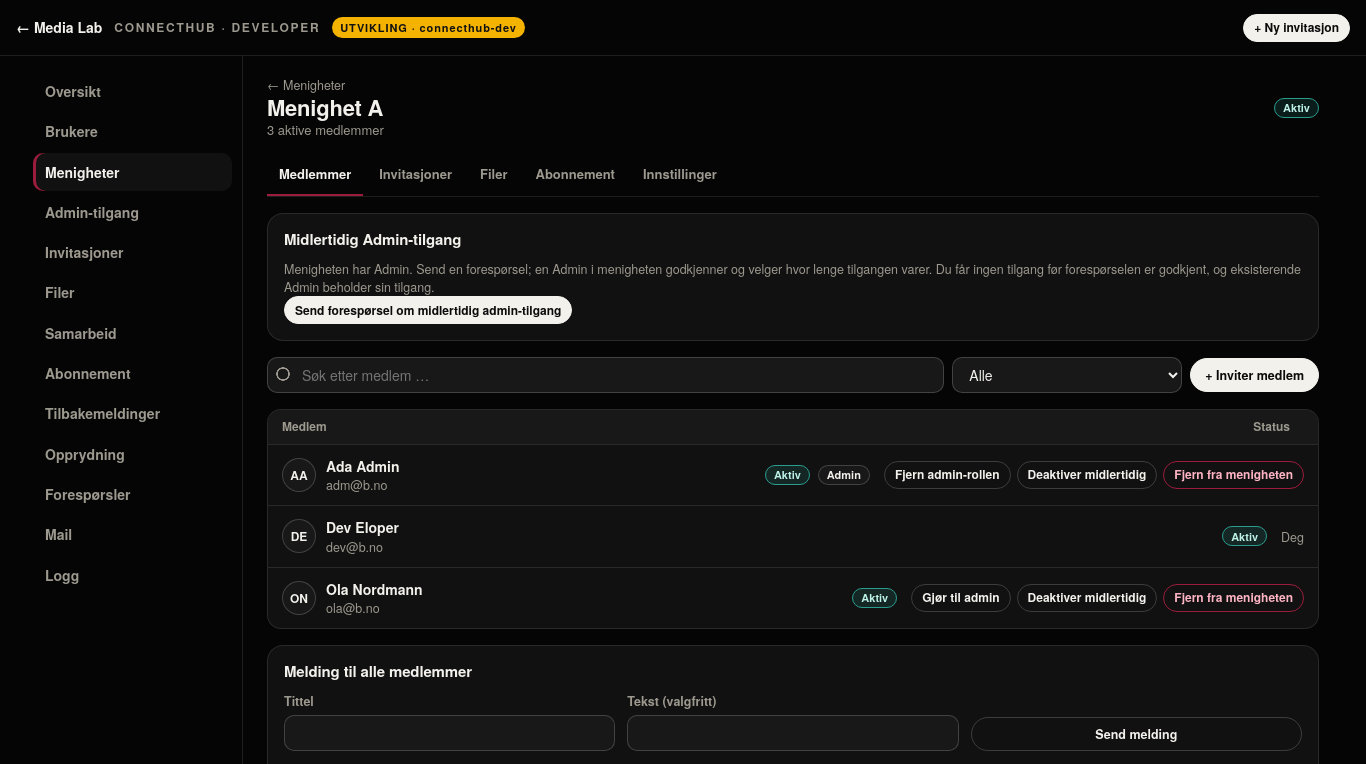
Scenario: Medlemmer i menigheten (ADM-04) › liste med Admin-merke, midlertidig Admin-tilgang for stab, og melding til alle
The image size is (1366, 764).
Expected: the button "Send forespørsel om midlertidig admin-tilgang" is shown, left=284, top=296, right=572, bottom=324
Expected: the row that starts with "Ada Admin" is shown, left=827, top=467, right=861, bottom=482
Type "Velkommen" into the field labelled "Tittel". click: {"x": 450, "y": 733}
box: left=284, top=715, right=615, bottom=751
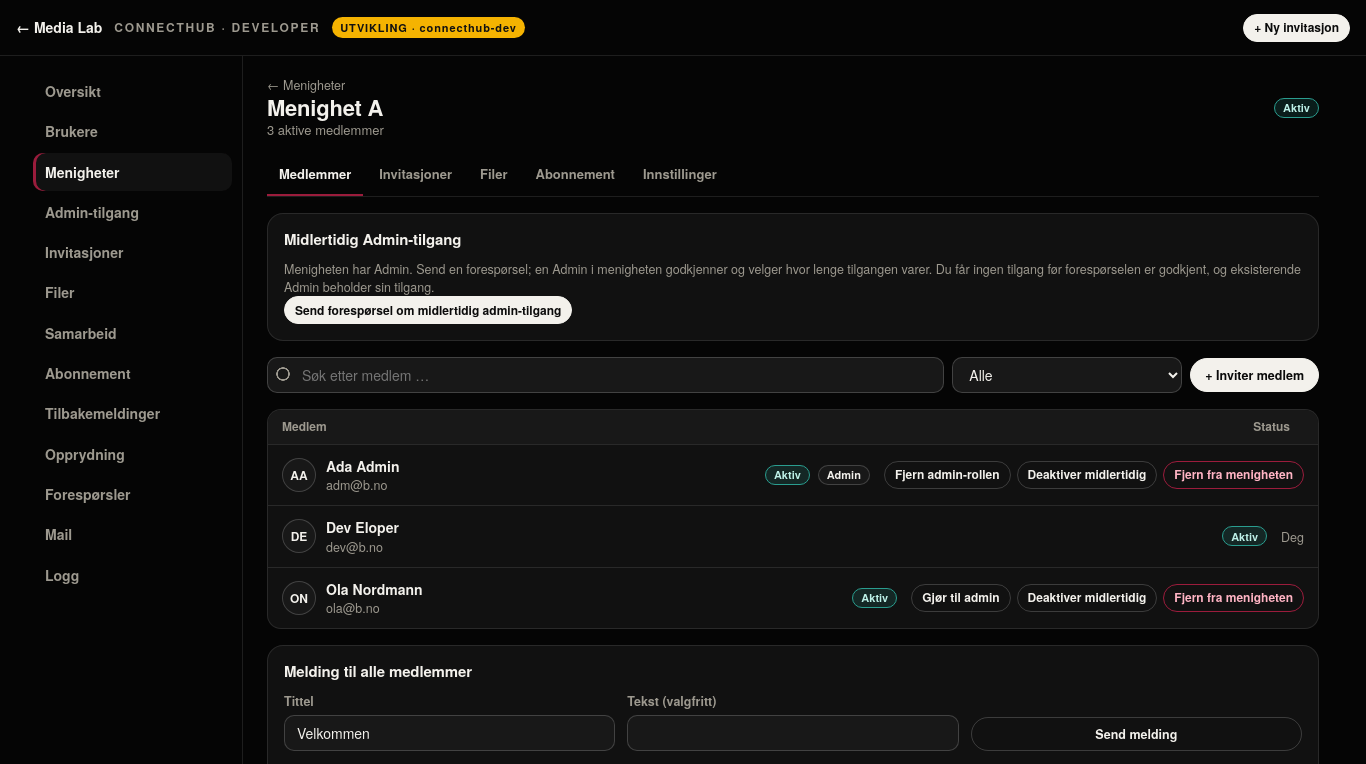
Click the button "Send melding". click: {"x": 1136, "y": 734}
box: left=971, top=717, right=1302, bottom=751
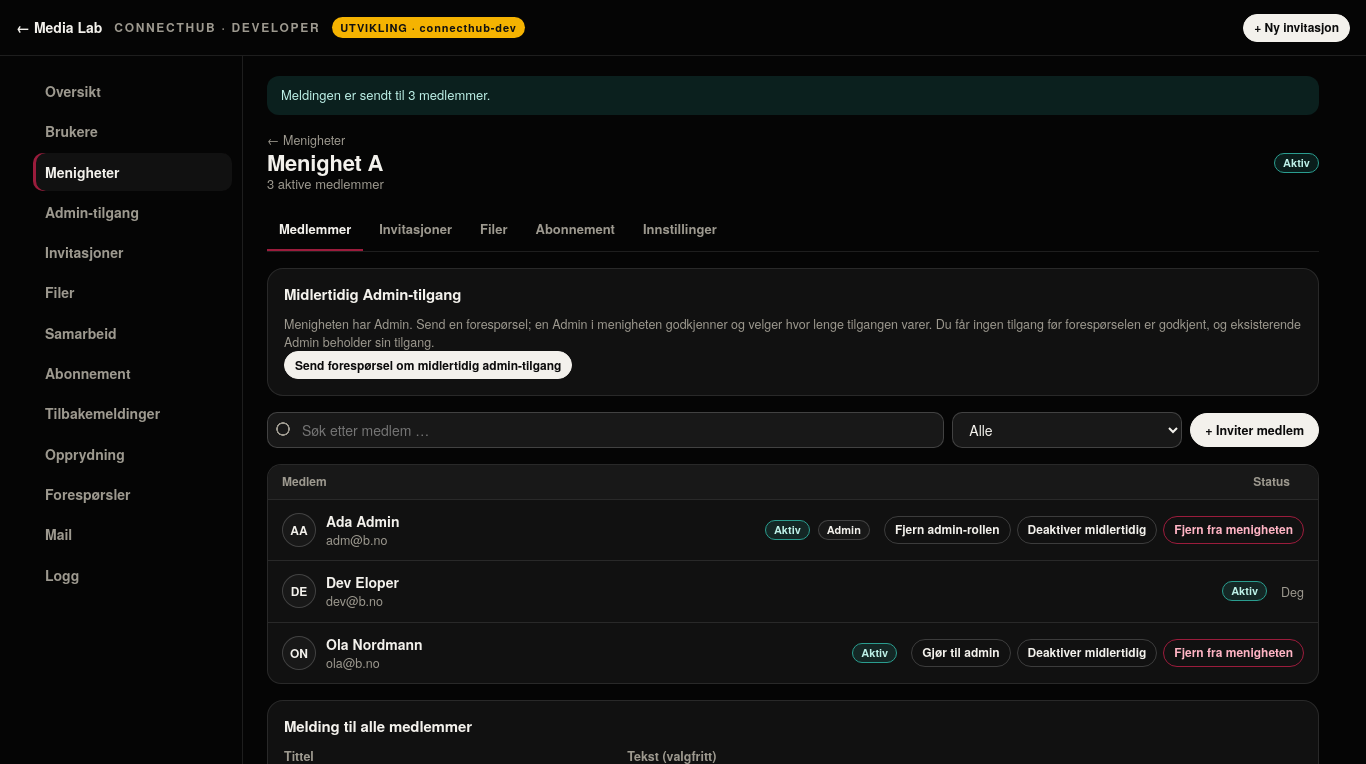
Now the message reads "Meldingen er sendt til 3 medlemmer.", box left=281, top=85, right=490, bottom=104
